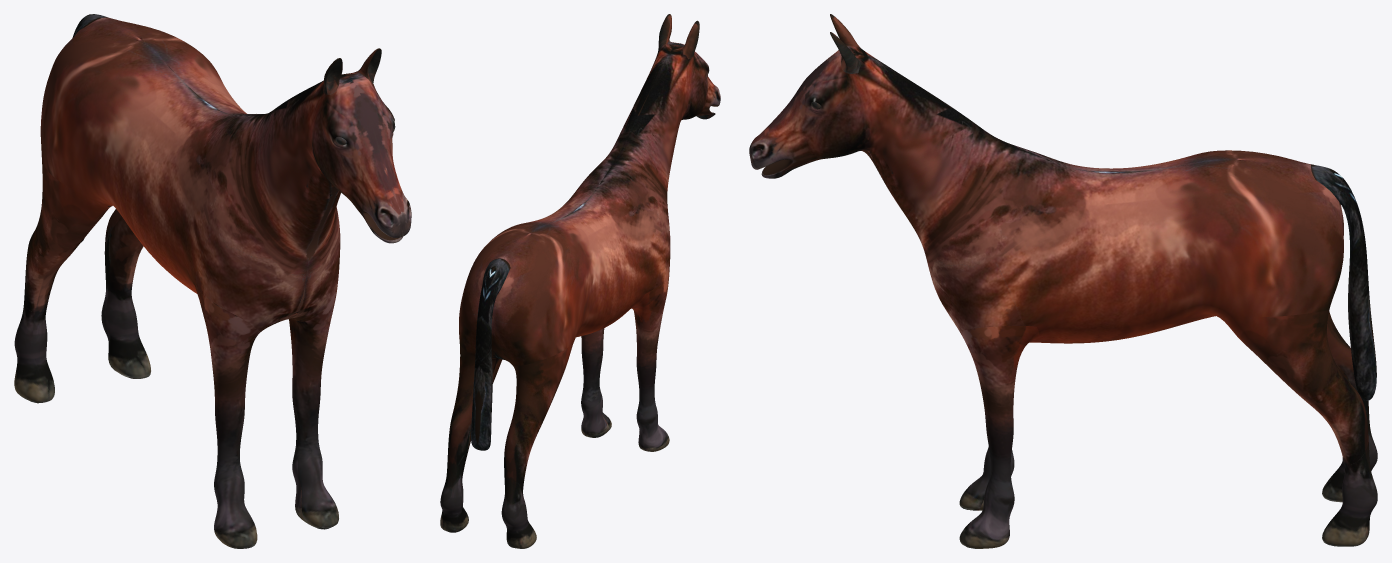
The model's file is horse.gltf.
3 views of the same model, side by side, from view 1: azimuth 30°, elevation 25°; view 2: azimuth 150°, elevation 25°; view 3: azimuth 270°, elevation 25° (orthographic). The views are drawn at different scales.
Parts seen in each view (by area): view 1: 10026_Horse_v01-it2; view 2: 10026_Horse_v01-it2; view 3: 10026_Horse_v01-it2.
Part boxes in pixels (left/top/right/bottom): 10026_Horse_v01-it2: left=14, top=14, right=411, bottom=548; 10026_Horse_v01-it2: left=440, top=14, right=720, bottom=548; 10026_Horse_v01-it2: left=749, top=14, right=1377, bottom=548.
Size of the model in its own units: 0.4266 by 1.59 by 1.81.
1 material, 1 textured.
